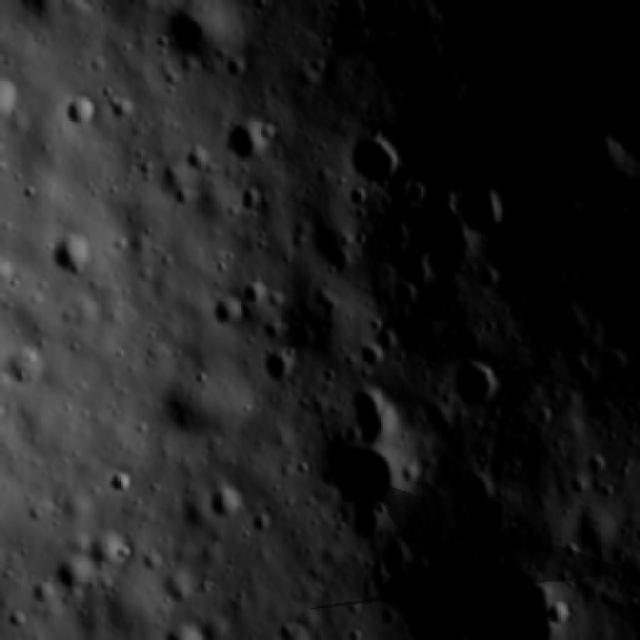crater: (308, 437, 409, 517), (400, 198, 480, 285), (153, 4, 233, 68), (338, 384, 414, 447), (455, 180, 508, 246), (446, 355, 506, 413), (348, 128, 404, 184), (47, 232, 98, 282), (226, 116, 272, 167), (83, 526, 131, 571), (60, 88, 102, 138), (53, 554, 95, 604), (344, 504, 388, 544), (206, 291, 245, 334), (320, 242, 357, 284), (259, 350, 299, 387), (208, 485, 245, 523), (560, 352, 597, 390), (218, 48, 251, 89), (353, 336, 389, 372), (598, 346, 630, 386), (106, 96, 142, 129), (386, 278, 420, 312), (373, 325, 405, 361), (544, 595, 576, 631), (238, 280, 276, 309), (468, 264, 502, 296), (104, 469, 136, 498), (240, 184, 262, 216), (558, 538, 584, 564), (249, 511, 274, 538), (586, 452, 609, 478), (408, 181, 426, 207)
